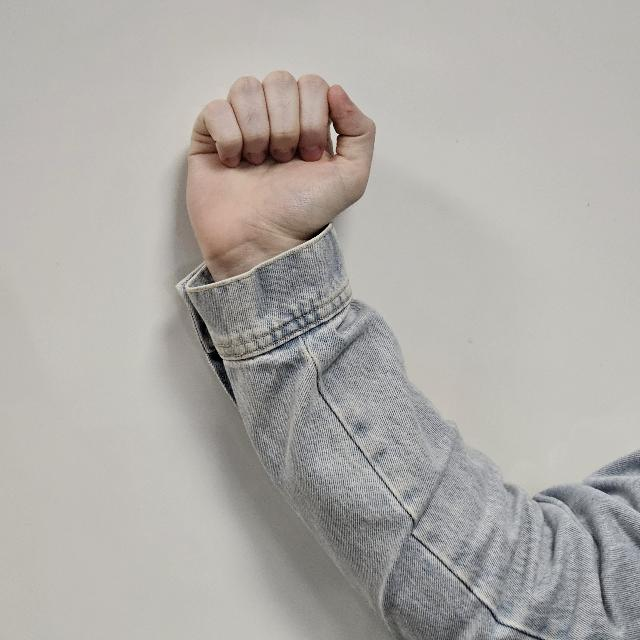Quadro: (177, 73, 375, 235)
